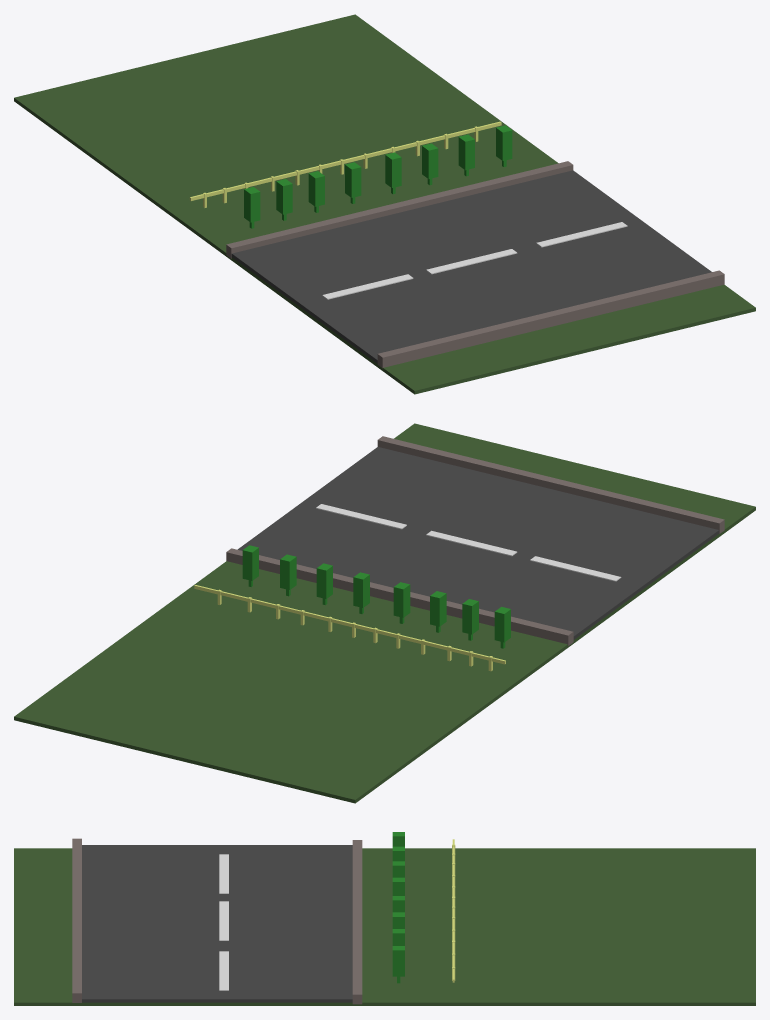
Rendered from street kinda.fbx.
3 views of the same model, one above another, from view 1: azimuth 30°, elevation 25°; view 2: azimuth 150°, elevation 25°; view 3: azimuth 270°, elevation 25° (orthographic). The views are drawn at different scales.
Parts seen in each view (by area): view 1: Cube.033, Cube.035, Cube.051, Cube.067, Cube.860; view 2: Cube.033, Cube.035, Cube.051, Cube.067, Cube.860; view 3: Cube.033, Cube.035, Cube.051, Cube.067, Cube.860, Cube.052, Cube.054, Cube.055.
Part boxes in pixels (left/top/right/bottom): Cube.033: left=14, top=14, right=755, bottom=394; Cube.035: left=231, top=170, right=711, bottom=363; Cube.051: left=226, top=161, right=724, bottom=368; Cube.067: left=244, top=125, right=512, bottom=228; Cube.860: left=189, top=121, right=501, bottom=207; Cube.033: left=14, top=423, right=755, bottom=803; Cube.035: left=237, top=447, right=719, bottom=639; Cube.051: left=226, top=436, right=724, bottom=645; Cube.067: left=242, top=545, right=510, bottom=648; Cube.860: left=194, top=585, right=505, bottom=671; Cube.033: left=14, top=848, right=755, bottom=1005; Cube.035: left=82, top=845, right=352, bottom=1002; Cube.051: left=72, top=838, right=362, bottom=1004; Cube.067: left=392, top=832, right=404, bottom=983; Cube.860: left=452, top=839, right=455, bottom=982; Cube.052: left=219, top=901, right=228, bottom=940; Cube.054: left=219, top=951, right=228, bottom=990; Cube.055: left=219, top=854, right=228, bottom=893.
Bounding box in the file's own units: 4008 × 458 × 8132.
